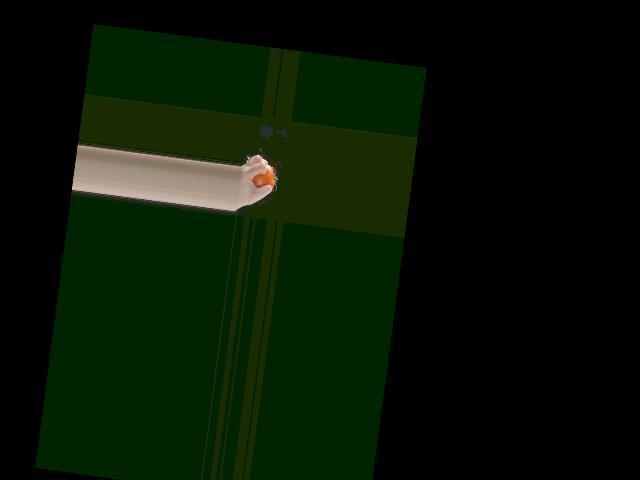tomato: (252, 163, 276, 190)
